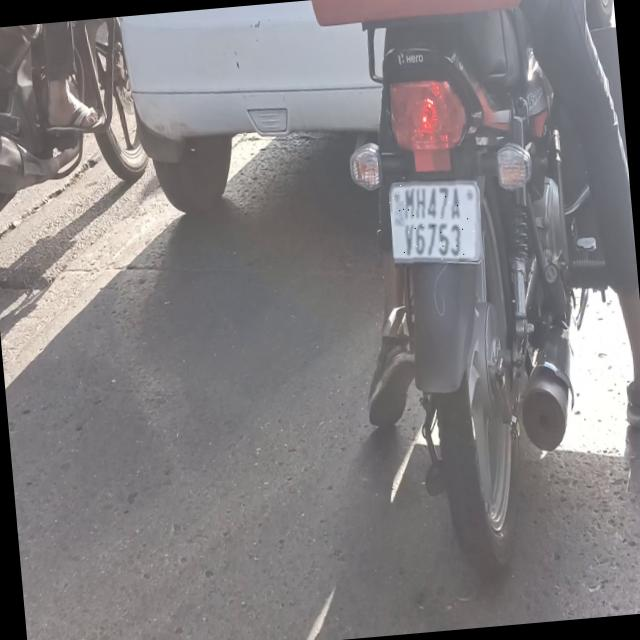Plate: (389, 176, 485, 268)
